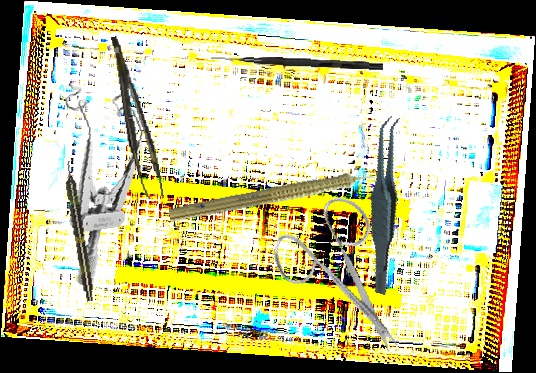Handpiece: (167, 161, 393, 232), (61, 159, 97, 303)
Hook Surgical: (210, 55, 384, 70)
Iris Scissors: (255, 183, 438, 355)
Speculum: (49, 71, 165, 289)
Tissue Forceps: (335, 113, 435, 296), (111, 32, 164, 203)
